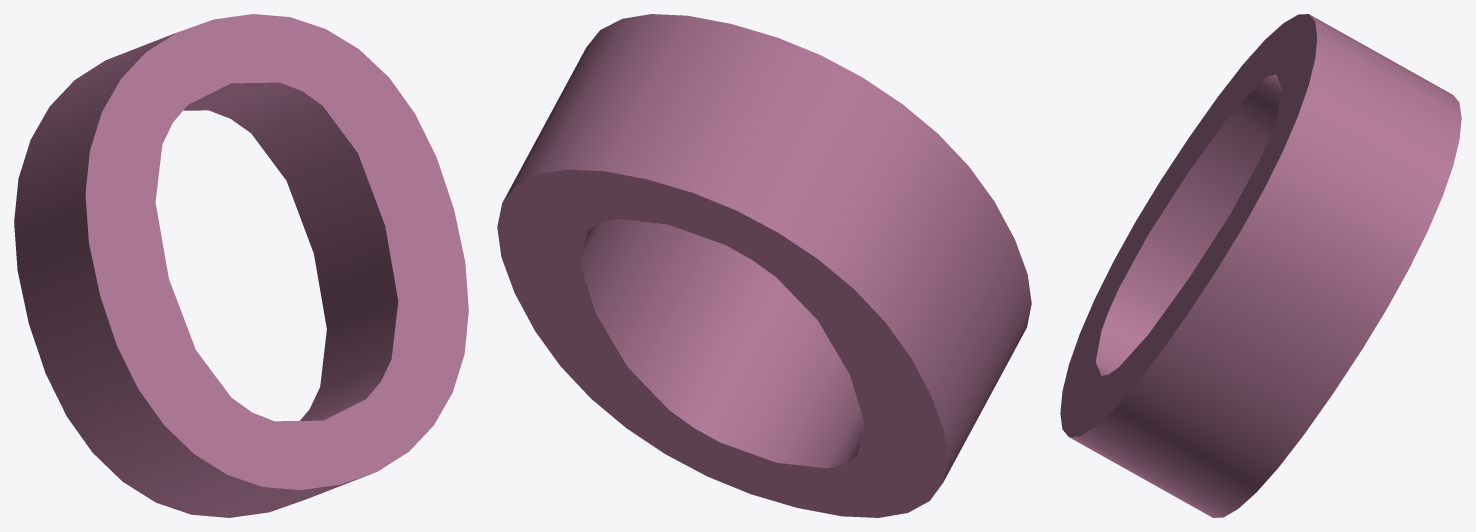
The model's file is original-6.obj.
The picture shows the model from 3 angles, left to right: view 1: azimuth 30°, elevation 25°; view 2: azimuth 150°, elevation 25°; view 3: azimuth 270°, elevation 25°; orthographic projection. The views are drawn at different scales.
Parts seen in each view (by area): view 1: mesh5/mesh5-geometry#mesh5-geometry; view 2: mesh5/mesh5-geometry#mesh5-geometry; view 3: mesh5/mesh5-geometry#mesh5-geometry.
Part boxes in pixels (x1=…): mesh5/mesh5-geometry#mesh5-geometry: x1=14, y1=14, x2=468, y2=517; mesh5/mesh5-geometry#mesh5-geometry: x1=497, y1=14, x2=1031, y2=517; mesh5/mesh5-geometry#mesh5-geometry: x1=1060, y1=14, x2=1461, y2=517.
Size of the model in its own units: 0.0108 by 0.0132 by 0.0105.
